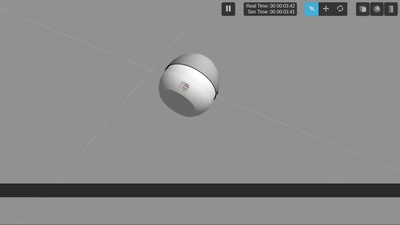mira_robot: (159, 52, 220, 117)
